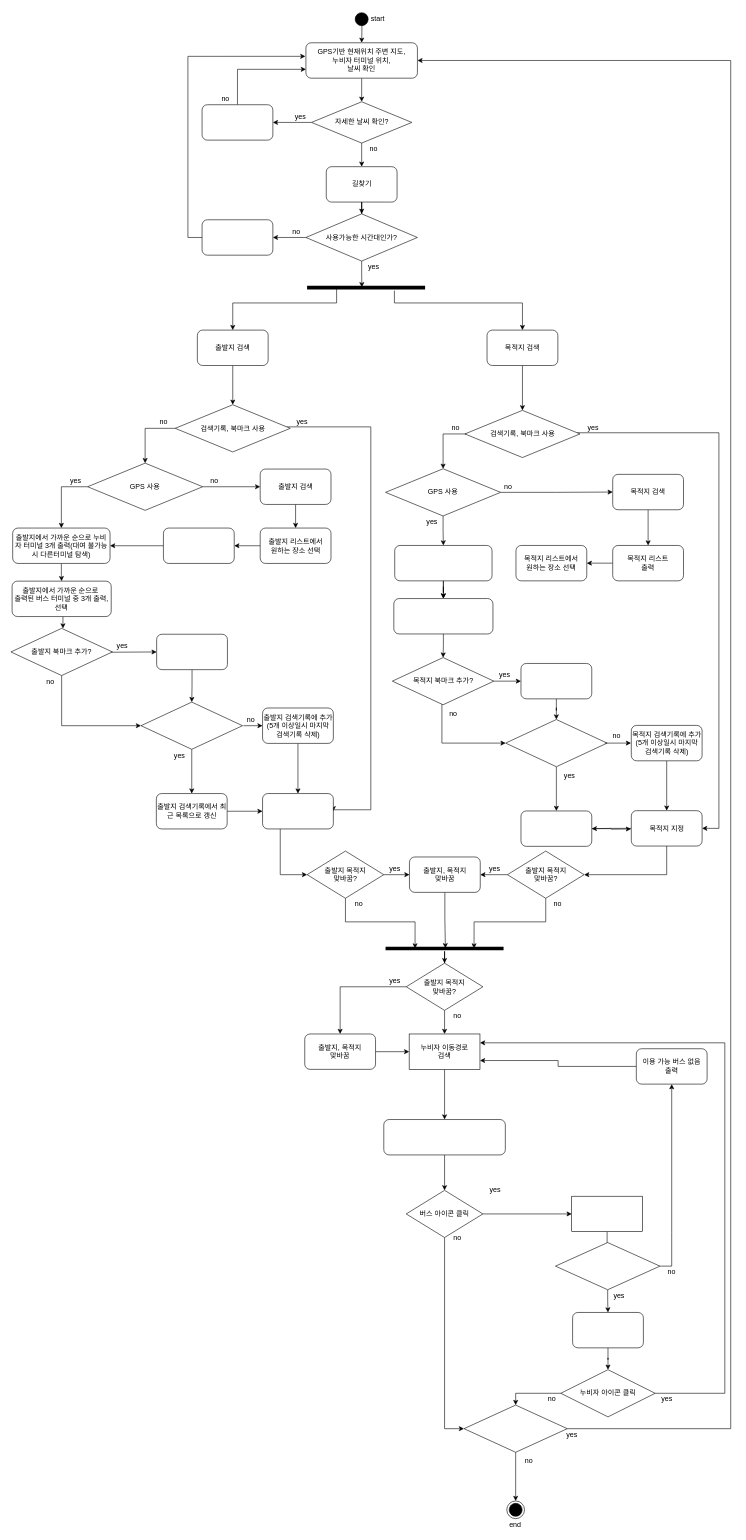
This 746x1540 diagram has some shape labels left out. The shapes that lost their labels are listed below. From the top down, each one's centre as x and y in pixels, then its label:
At (x=237, y=122): "날씨화면 출력".
At (x=237, y=237): "누비자 이용 불가능 시간대 팝업 출력".
At (x=198, y=545): "출발지 리스트 출력".
At (x=443, y=563): "목적지에서 가까운 순으로 누비자 터미널 3개 출력(반납 불가능 시 다른터미널 탐색)".
At (x=443, y=616): "목적지에서 가까운 순으로 출력된 버스 터미널 중 3개 출력, 선택".
At (x=191, y=652): "출발지 북마크 저장".
At (x=556, y=681): "목적지 북마크 저장".
At (x=191, y=725): "출발지 검색기록에 있는가?".
At (x=556, y=743): "목적지 검색기록에 있는가?".
At (x=297, y=811): "출발지 지정".
At (x=556, y=828): "목적지 검색기록에서 최근 목록으로 갱신".
At (x=444, y=1137): "누비자 이동경로 출력 출발지 대여/반납 현황 출력 목적지 대여/반납 현황 출력".
At (x=607, y=1214): "버스 이동경로 검색".
At (x=607, y=1266): "이용가능한 버스가 있는가?".
At (x=607, y=1330): "버스 이동경로 출력".
At (x=515, y=1428): "초기화면으로".
